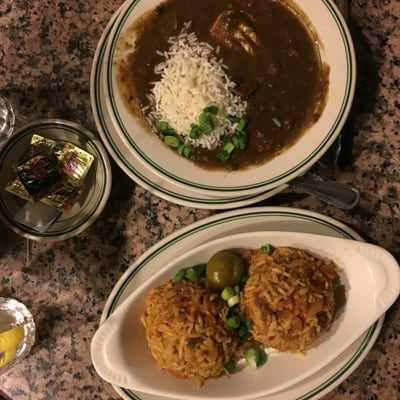sushi: (91, 206, 397, 399), (95, 0, 356, 204)
